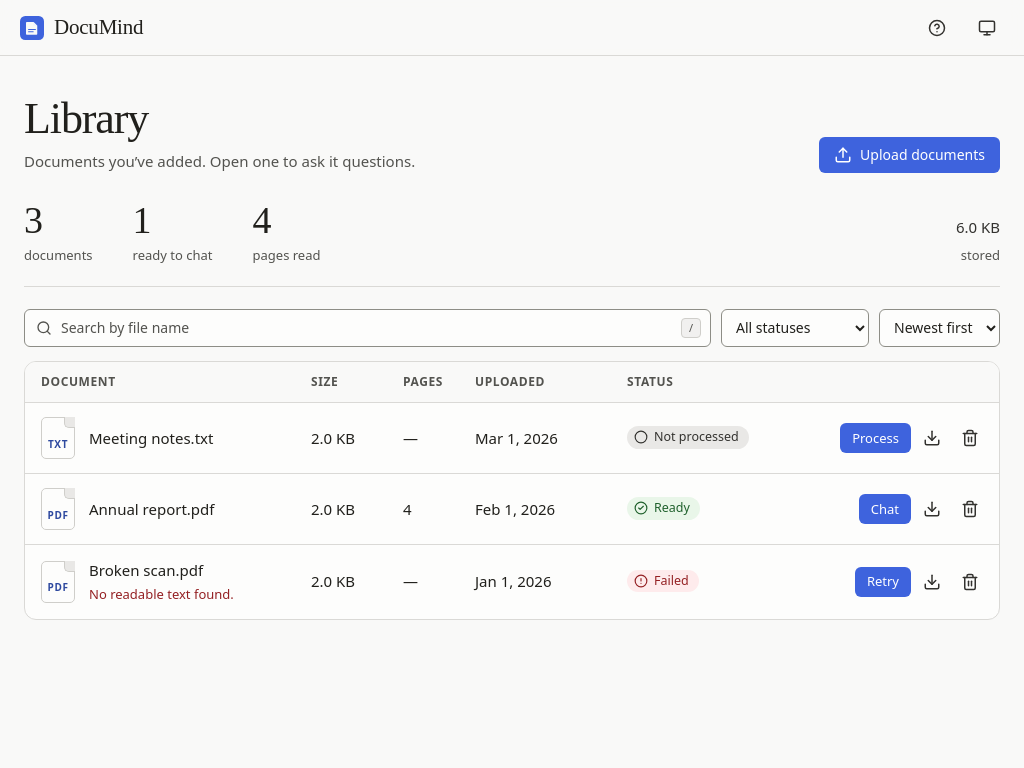
Test: LibraryPage › asks for confirmation before deleting, and only deletes on confirm
Expected: the link "Meeting notes.txt" is shown, [89,428,213,448]
Click the button named "Delete Meeting notes.txt". click: (970, 438)
box: [953,421,987,455]
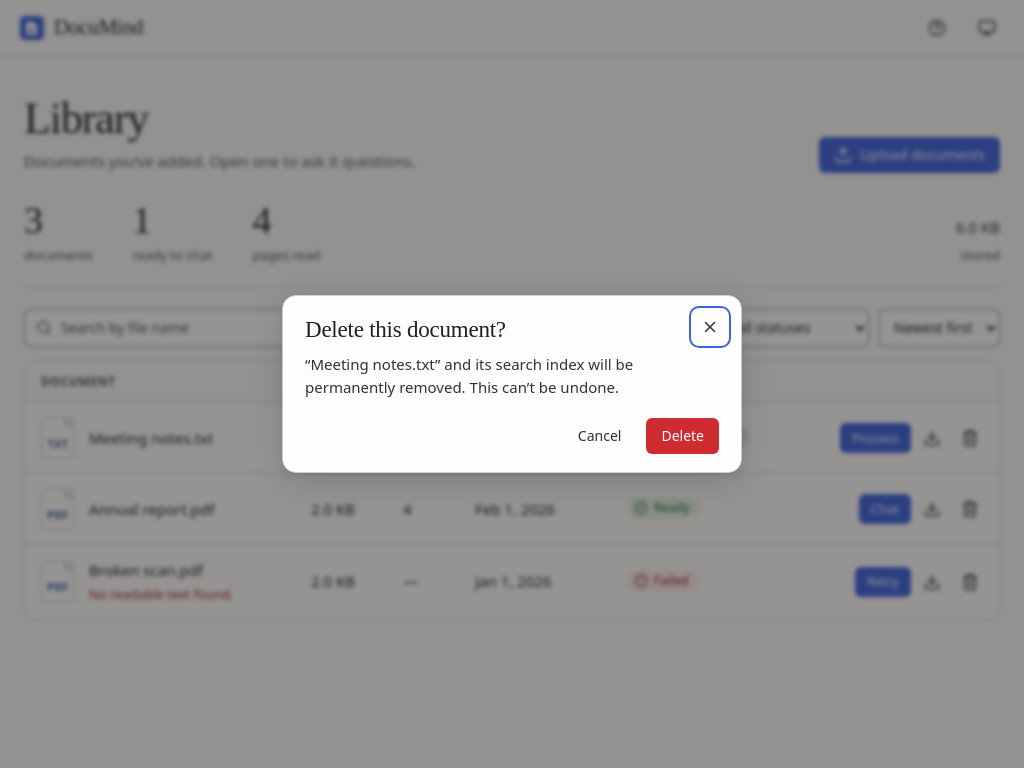
Now the dialog "Delete this document?" shows "Meeting notes.txt", box [305,354,633,397]
Click the button "Cancel". click: (600, 436)
box: [563,418,636,454]
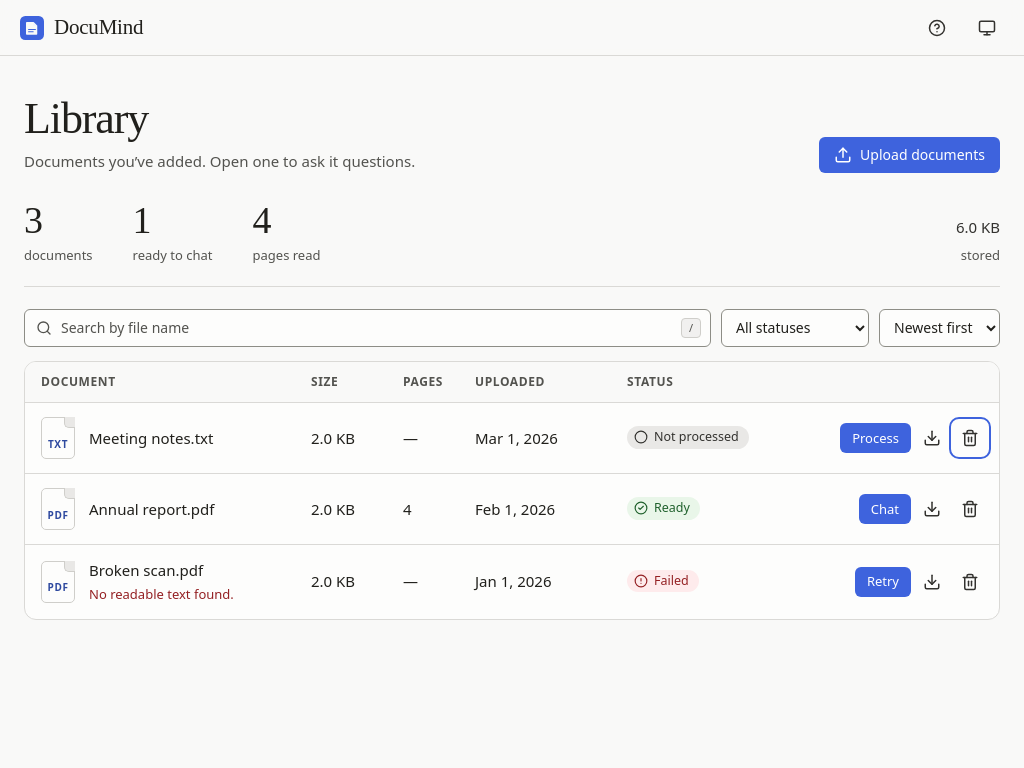
Expected: the link "Meeting notes.txt" is shown, [89,428,213,448]
Click the button named "Delete Meeting notes.txt". click: (970, 438)
box: [953,421,987,455]
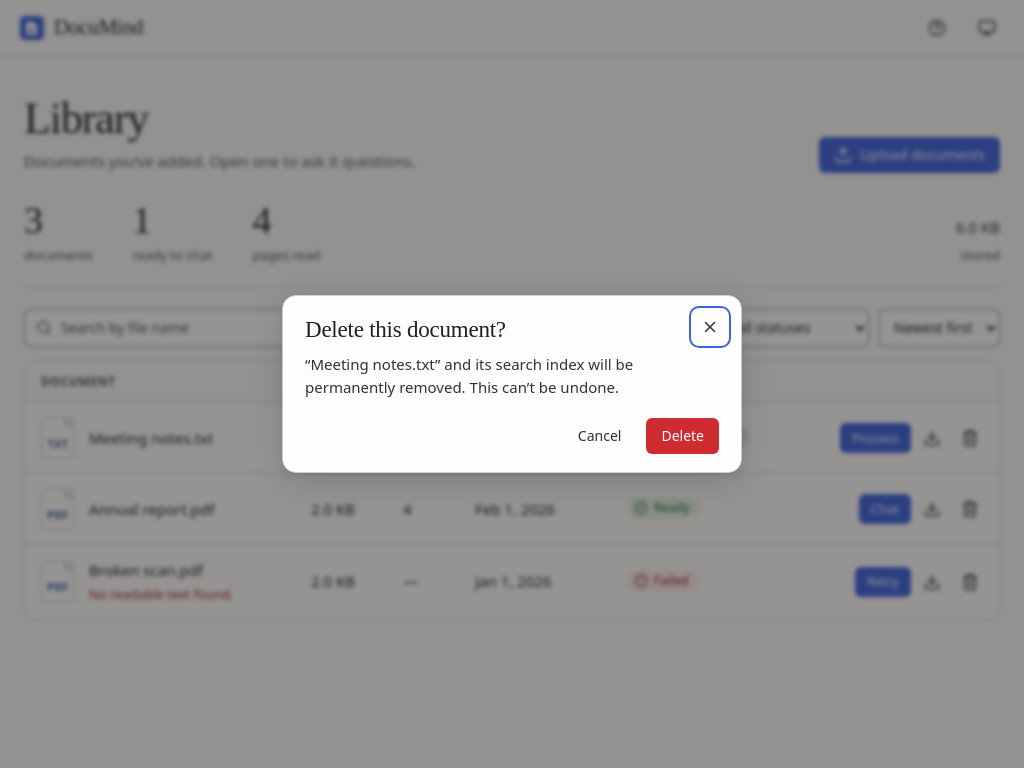
Click the button "Delete". click: (683, 436)
box: [646,418,719,454]
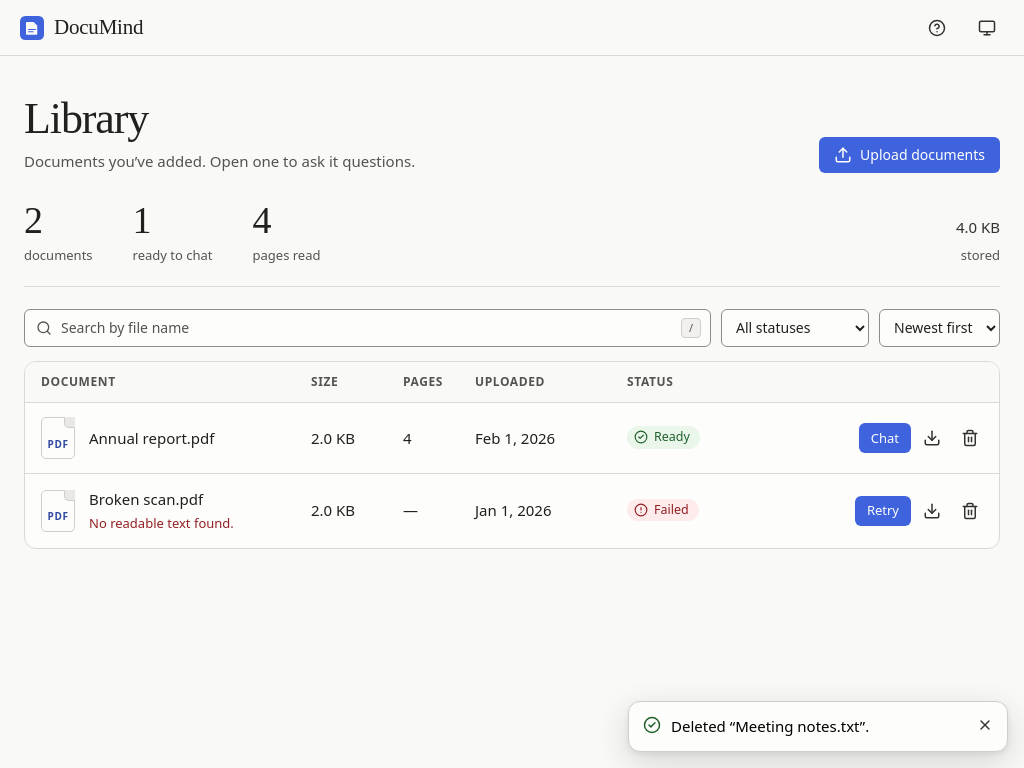
Now the text "Deleted “Meeting notes.txt”." is shown, box [671,716,869,736]
